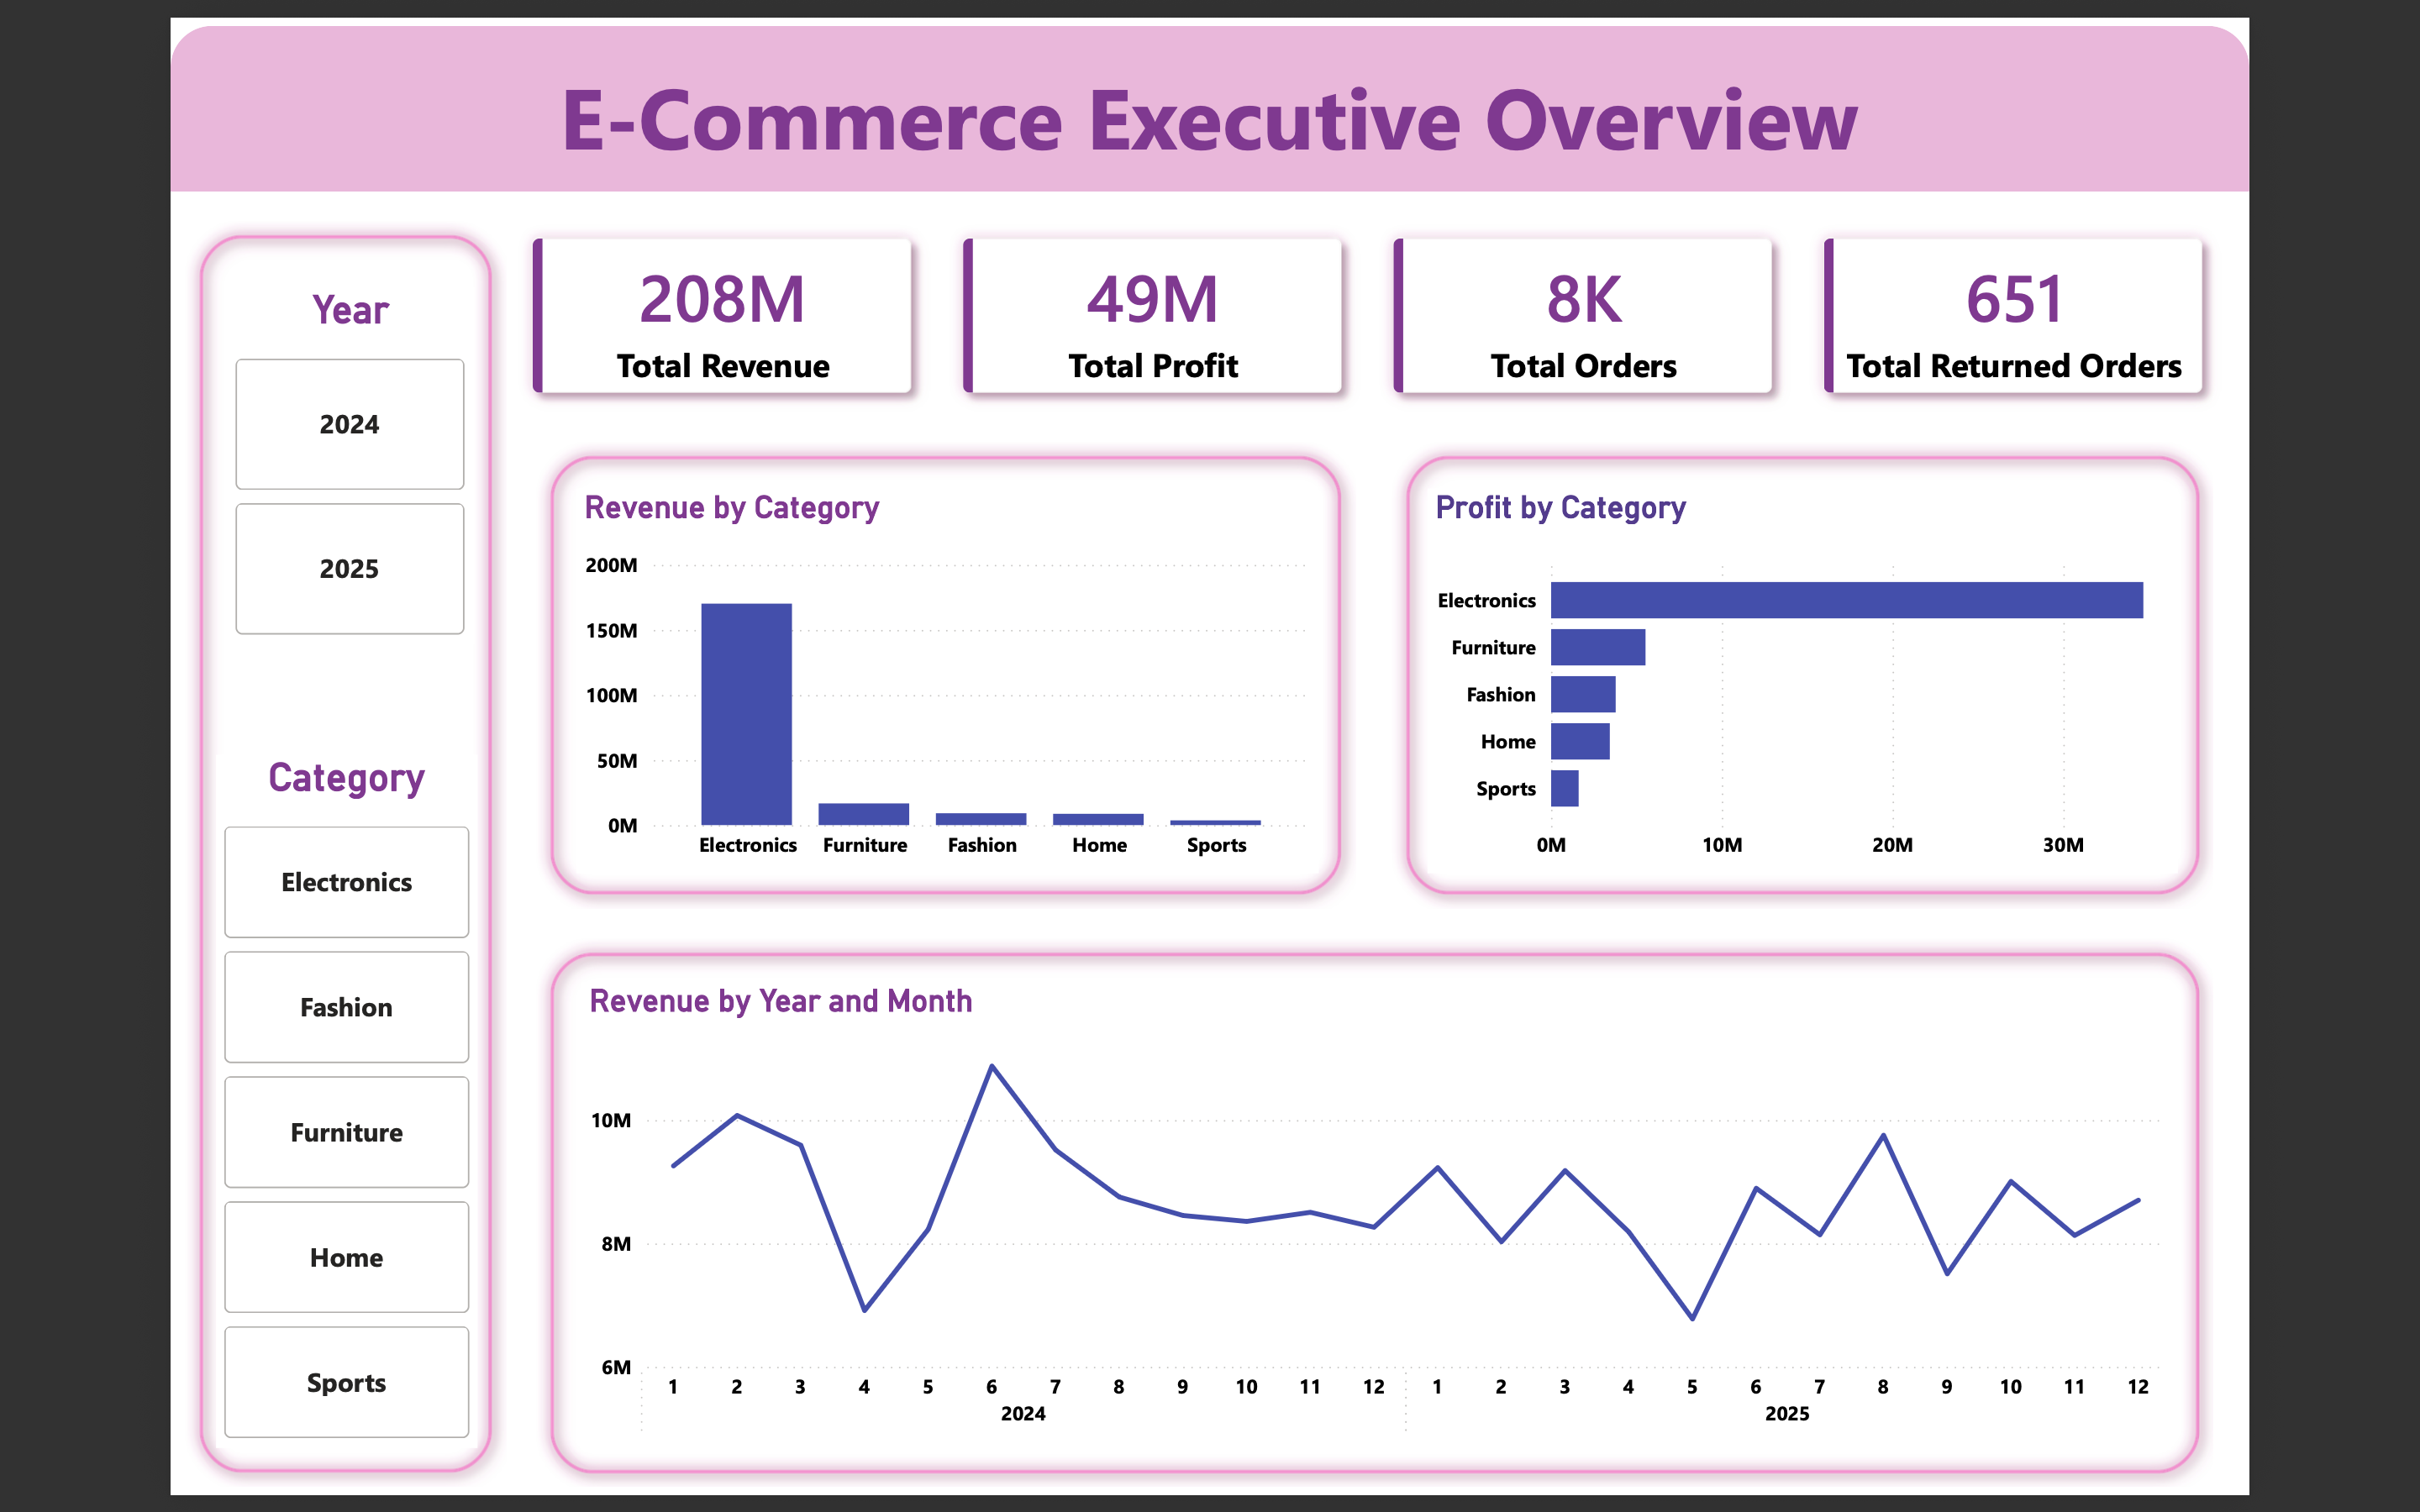

The dashboard page shown, as its layout file describes it:
{"tool":"powerbi","page":{"name":"Executive Overview","canvas":[1280,900],"ordinal":0},"visuals":[{"type":"cardVisual","fields":{"Data":["Sum(Sheet1.Revenue)","Sum(Sheet1.Profit)","Count(Sheet1.Order_ID)","Count(returns.Order_ID)"]},"box":[193.9,102.2,1086.1,153.3],"z":0},{"type":"shape","box":[0,0,1280,102.2],"z":4},{"type":"shape","box":[751.5,256.3,506.3,288],"z":5},{"type":"shape","box":[224.7,561.7,1033.2,338.6],"z":6},{"type":"shape","box":[224.7,256.3,504.7,288],"z":7},{"type":"shape","box":[9.5,120.2,197.8,780],"z":8},{"type":"advancedSlicerVisual","fields":{"Values":["Sheet1.Year"]},"box":[34.8,161.4,151.9,219.9],"z":9},{"type":"advancedSlicerVisual","fields":{"Values":["Sheet1.Category"]},"box":[28.5,449.3,161.4,427.2],"z":10},{"type":"clusteredBarChart","fields":{"Category":["Sheet1.Category"],"Y":["Sum(Sheet1.Profit)"]},"box":[773.7,284.8,462,237.3],"z":11},{"type":"clusteredColumnChart","fields":{"Category":["Sheet1.Category"],"Y":["Sum(Sheet1.Revenue)"]},"box":[250,284.8,457.3,237.3],"z":12},{"type":"lineChart","fields":{"Category":["Sheet1.Year","Sheet1.Month"],"Y":["Sum(Sheet1.Revenue)"]},"box":[253.2,588.6,979.4,288],"z":13}]}

Visuals, with their boxes on the page's 1280x900 design canvas (x1, y1, x2, y2). These are canvas units, not pixel positions in the 2420x1512 screenshot, which may show the page scaled, cropped or inside an application window:
cardVisual - Sum(Sheet1.Revenue) x Sum(Sheet1.Profit): BBox(194, 102, 1280, 256)
shape: BBox(0, 0, 1280, 102)
shape: BBox(752, 256, 1258, 544)
shape: BBox(225, 562, 1258, 900)
shape: BBox(225, 256, 729, 544)
shape: BBox(10, 120, 207, 900)
advancedSlicerVisual - Sheet1.Year: BBox(35, 161, 187, 381)
advancedSlicerVisual - Sheet1.Category: BBox(28, 449, 190, 876)
clusteredBarChart - Sheet1.Category x Sum(Sheet1.Profit): BBox(774, 285, 1236, 522)
clusteredColumnChart - Sheet1.Category x Sum(Sheet1.Revenue): BBox(250, 285, 707, 522)
lineChart - Sheet1.Year x Sheet1.Month: BBox(253, 589, 1233, 877)
